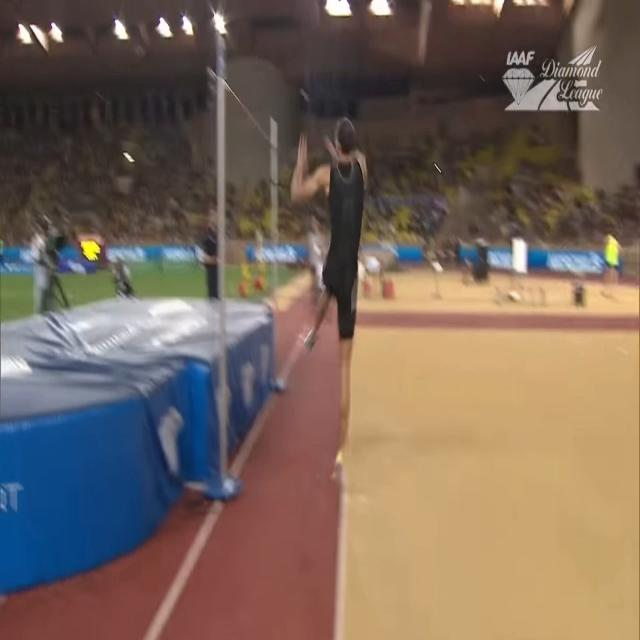jump: (268, 118, 366, 482)
